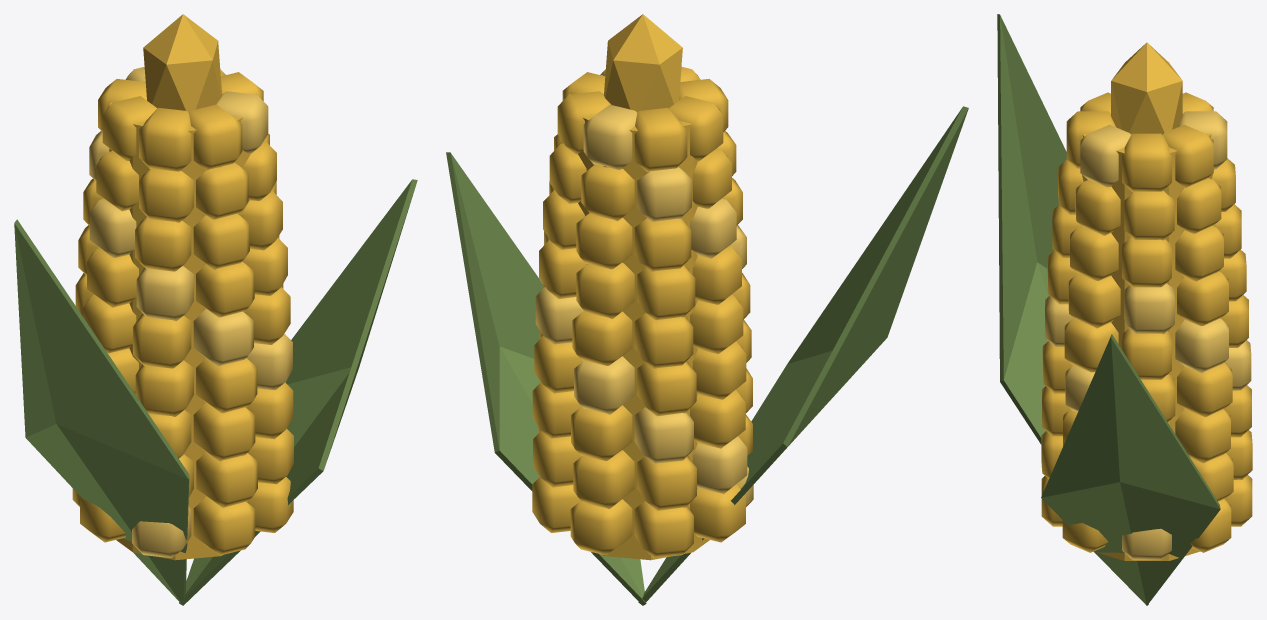
File: grain.glb
3 views of the same model, side by side, from view 1: azimuth 30°, elevation 25°; view 2: azimuth 150°, elevation 25°; view 3: azimuth 270°, elevation 25° (orthographic). The views are drawn at different scales.
Visible parts, largest first — view 1: grain; view 2: grain; view 3: grain.
Boxes of the visible parts, x1=… form: grain: x1=14, y1=14, x2=417, y2=605; grain: x1=446, y1=14, x2=968, y2=605; grain: x1=997, y1=14, x2=1252, y2=605.
Bounding box in the file's own units: 1.06 × 1.3 × 0.5335.
